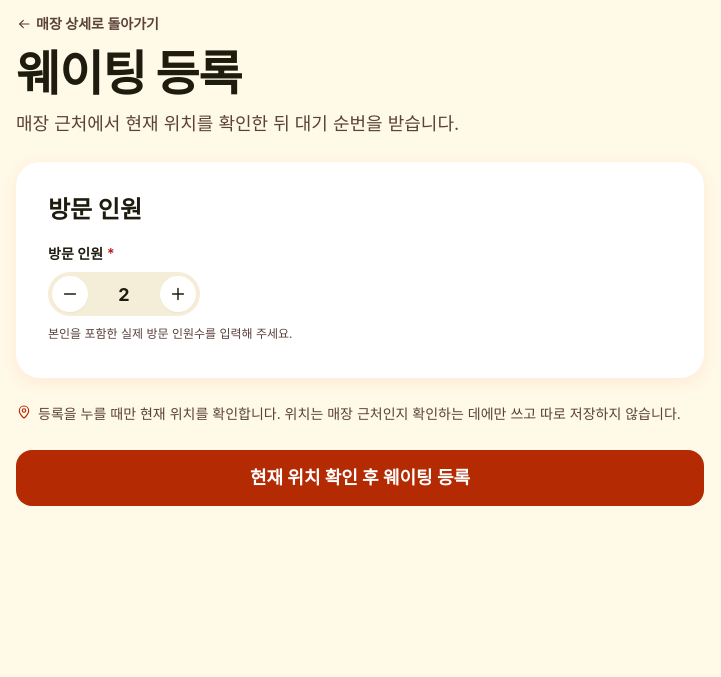
Test: 소비자 웨이팅 등록 API 연결 › 브라우저 위치 실패 1를 PERMISSION_DENIED 판정 요청으로 보내고 등록하지 않는다
Click the button "현재 위치 확인 후 웨이팅 등록" at point(360, 478), box [16,450,704,506]
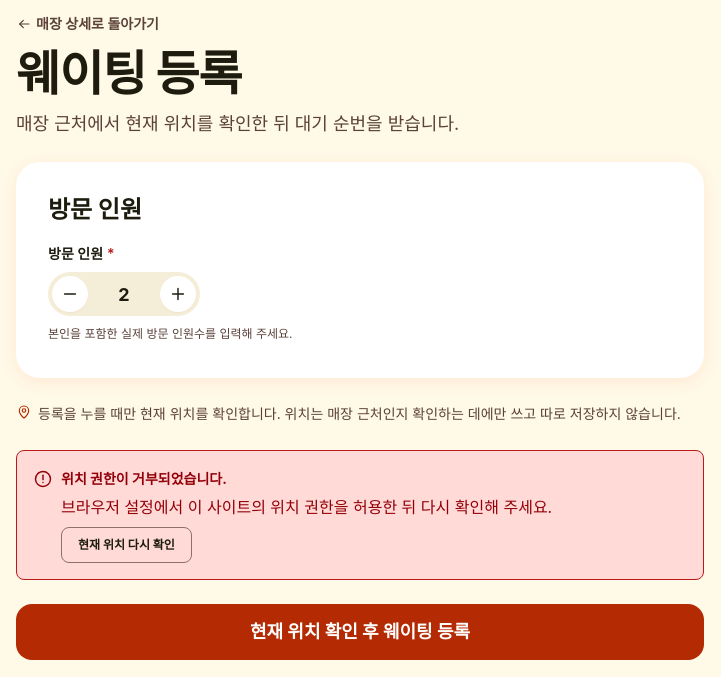
Check: the text "위치 권한이 거부되었습니다." is shown, box [61,470,227,487]
